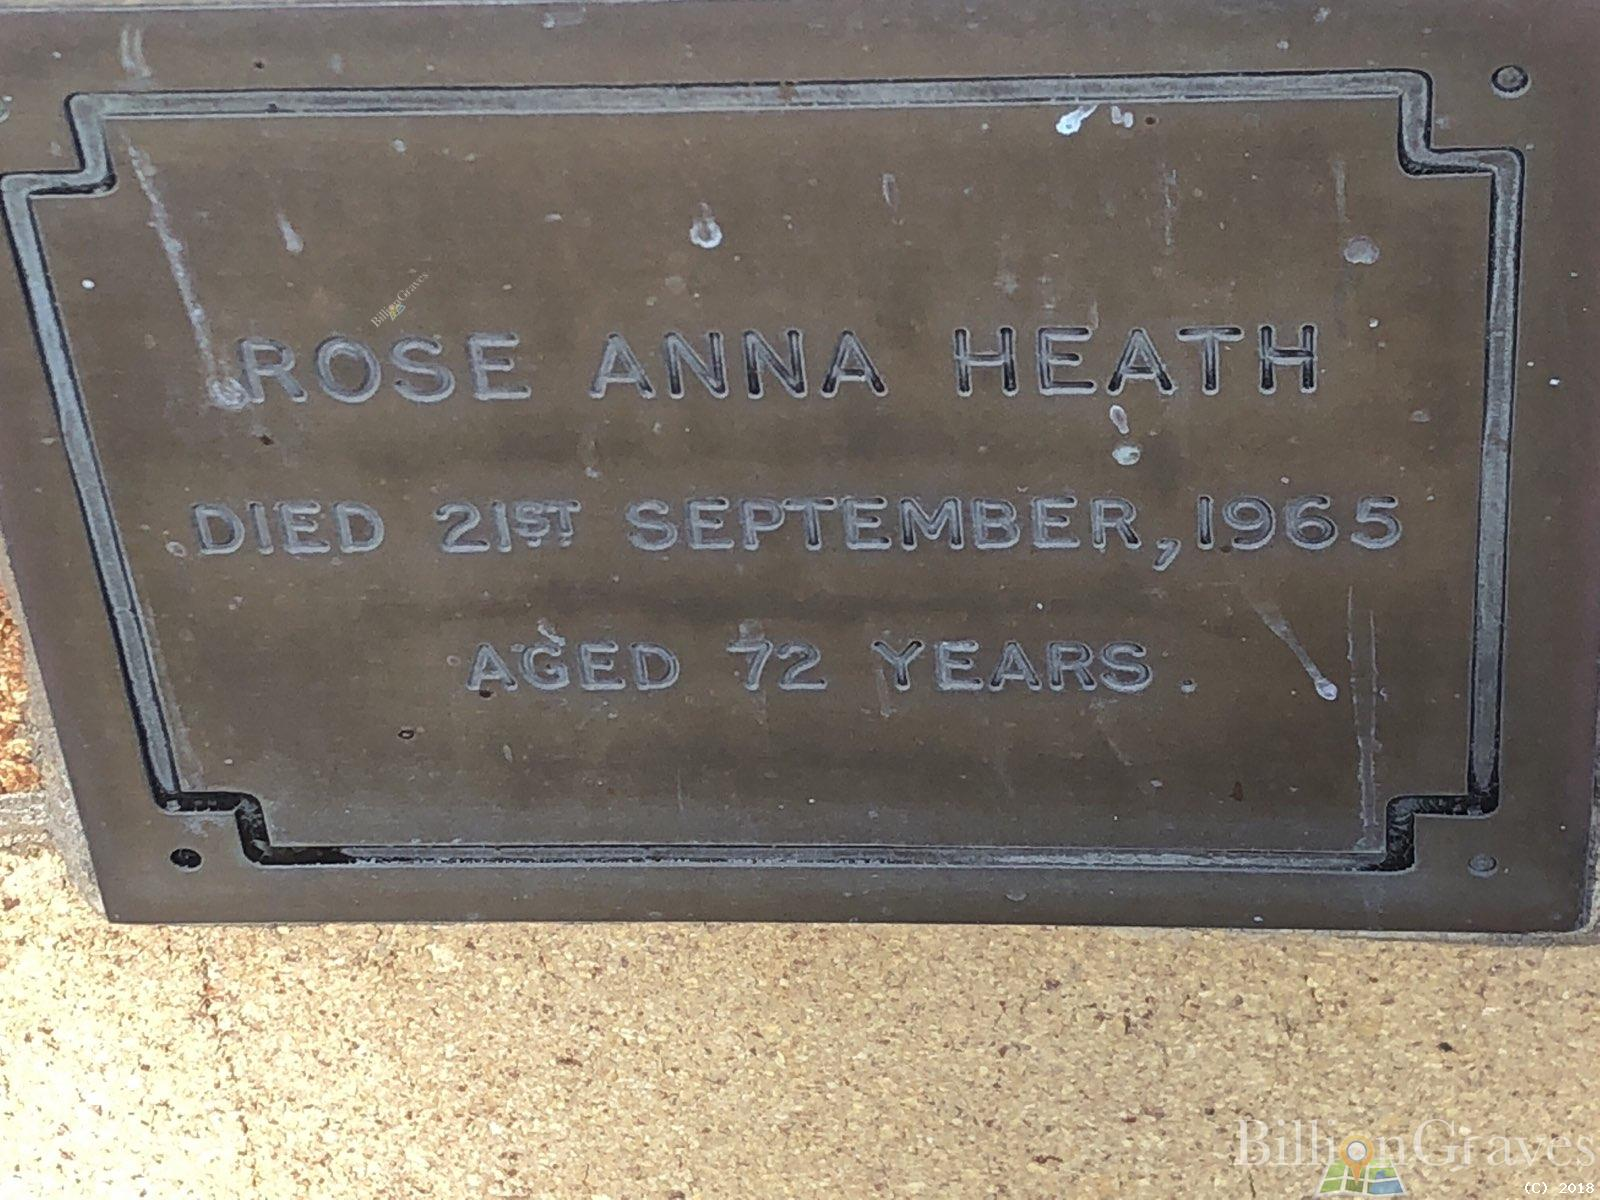flat: (0, 11, 1600, 940)
